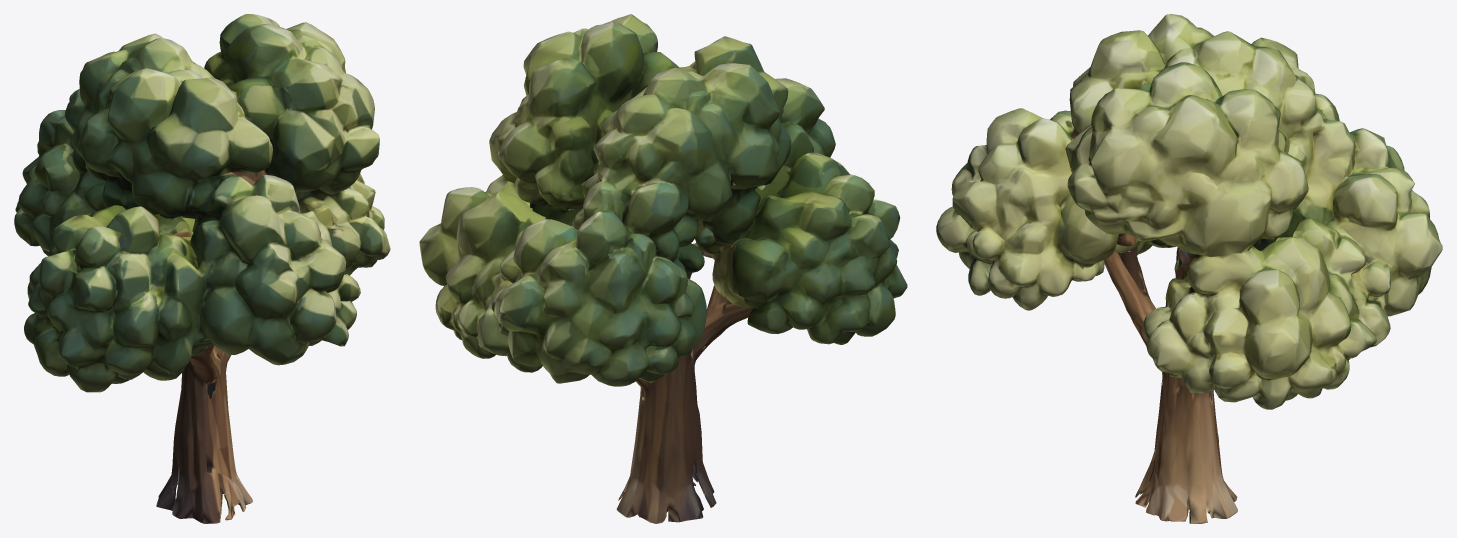
The model's file is low_poly_oak_tree_for_roblox.fbx.
3 views of the same model, side by side, from view 1: azimuth 30°, elevation 25°; view 2: azimuth 150°, elevation 25°; view 3: azimuth 270°, elevation 25° (orthographic).
Visible parts, largest first — view 1: Tree; view 2: Tree; view 3: Tree.
Part boxes in pixels (x1,y1,x2,y2): Tree: (14, 14, 390, 523); Tree: (419, 14, 907, 523); Tree: (936, 14, 1442, 523).
Bounding box in the file's own units: 357 × 400 × 393.
1 material, 1 textured.
